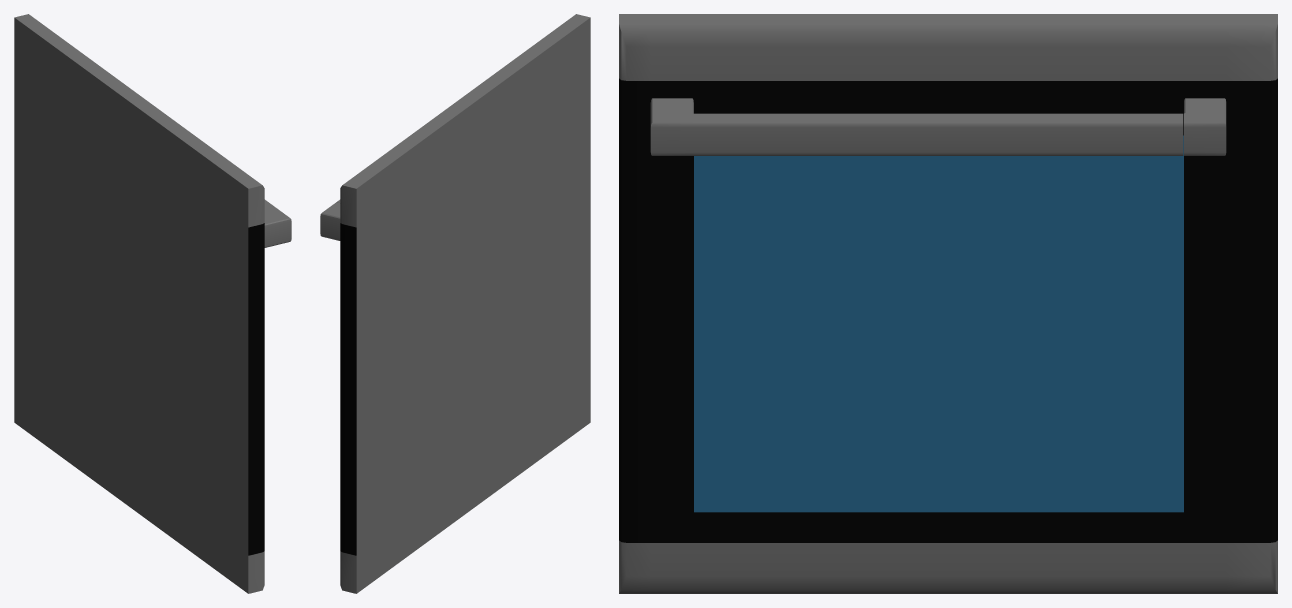
Rendered from Four_ProjetVR.fbx.
3 views of the same model, side by side, from view 1: azimuth 30°, elevation 25°; view 2: azimuth 150°, elevation 25°; view 3: azimuth 270°, elevation 25° (orthographic). The views are drawn at different scales.
Visible parts, largest first — view 1: Four; view 2: Four; view 3: Four.
Boxes of the visible parts, <box> form: Four: <box>14,14,291,593</box>; Four: <box>320,14,590,593</box>; Four: <box>619,14,1277,593</box>.
Size of the model in its own units: 9 by 63.97 by 67.
